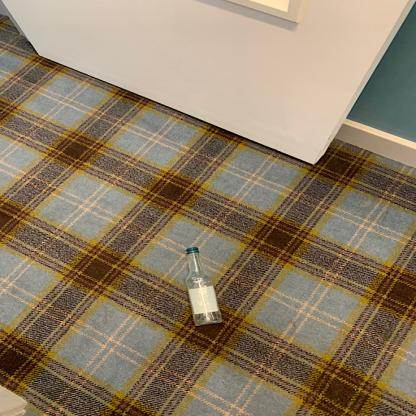trash: (180, 247, 226, 328)
